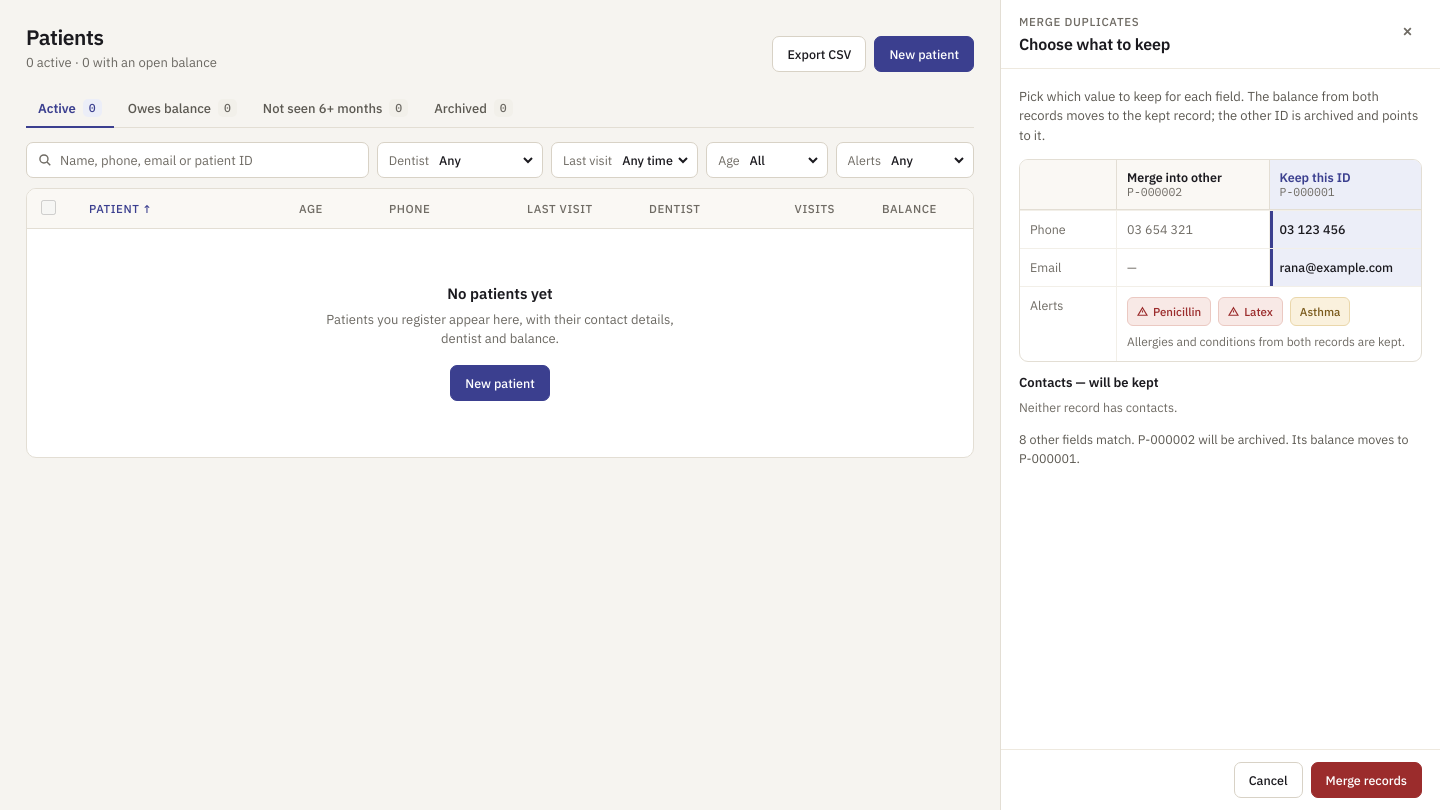
Test: MergePanel › switching the kept ID resets the picks to the new survivor
Click the radio button named "Phone from P-000002: 03 654 321".
click(1192, 230)  # box [1116,211,1268,248]
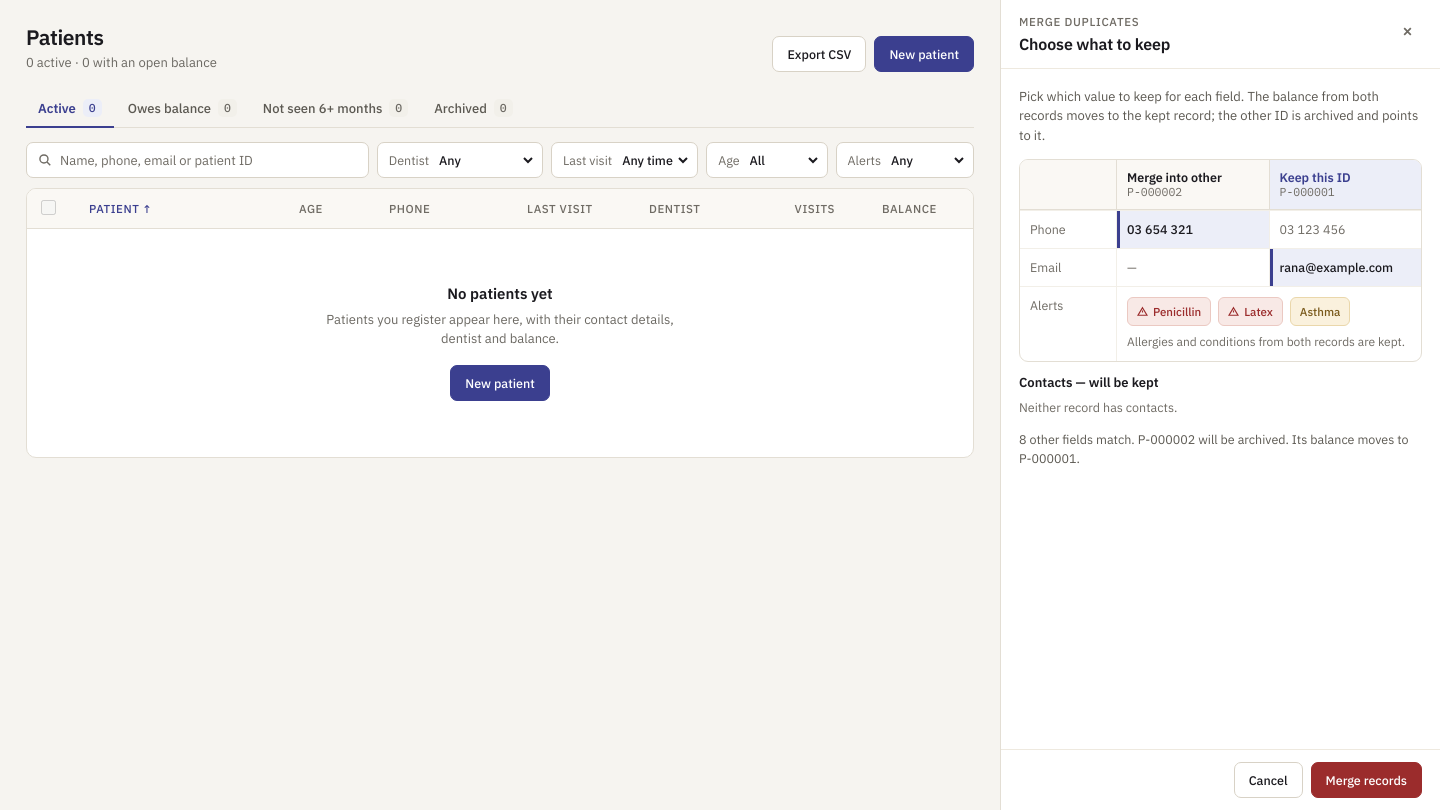
Click the radio button labelled "Merge into other P-000002".
click(1192, 185)  # box [1116,160,1268,210]
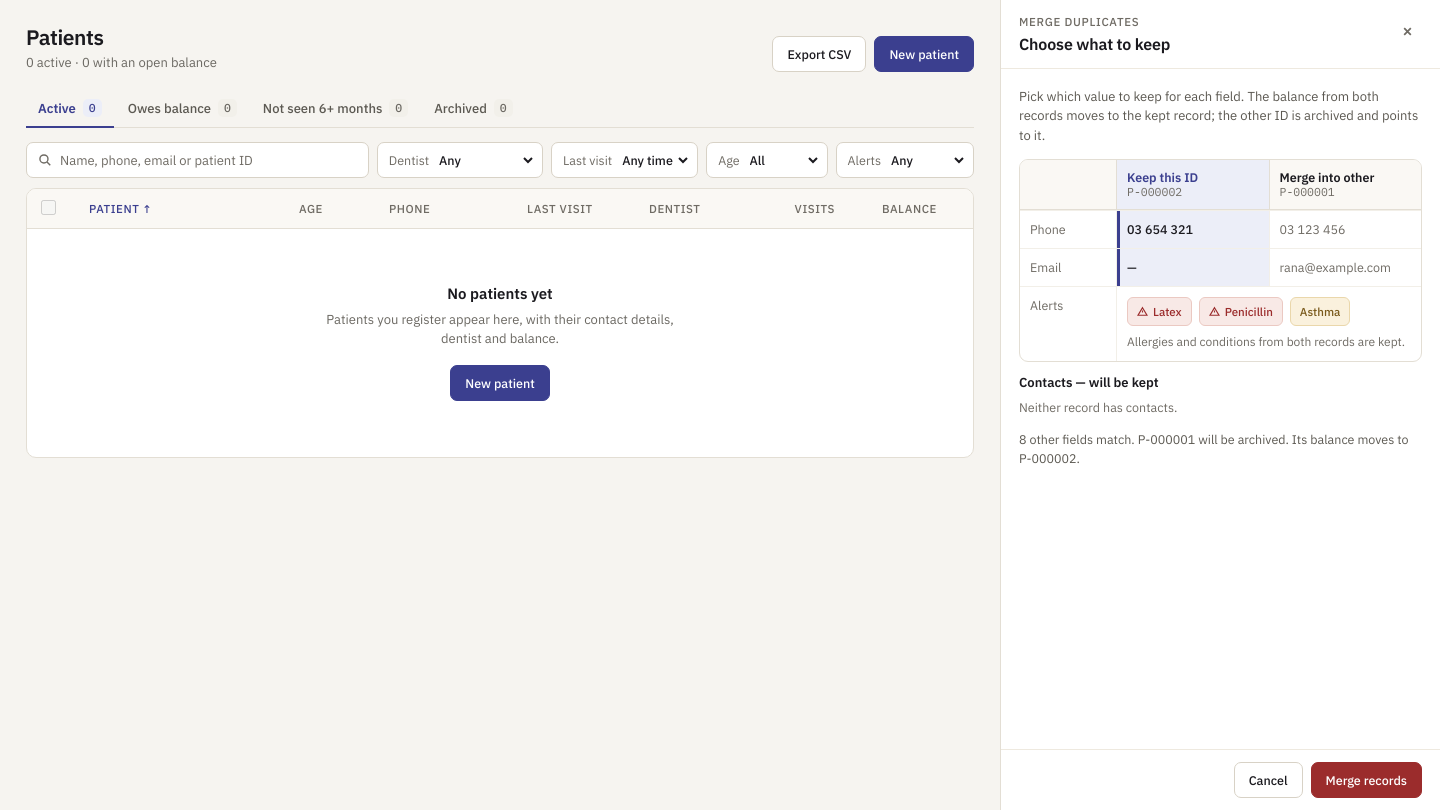
Expected: the radio button labelled "Keep this ID P-000002" is checked, [1116,160,1268,210]
Expected: the radio button named "Phone from P-000002: 03 654 321" is checked, [1116,211,1268,248]
Expected: the radio button named "Email from P-000002: —" is checked, [1116,249,1268,286]
Click the button "Merge records".
click(1366, 780)  # box [1310,762,1422,798]
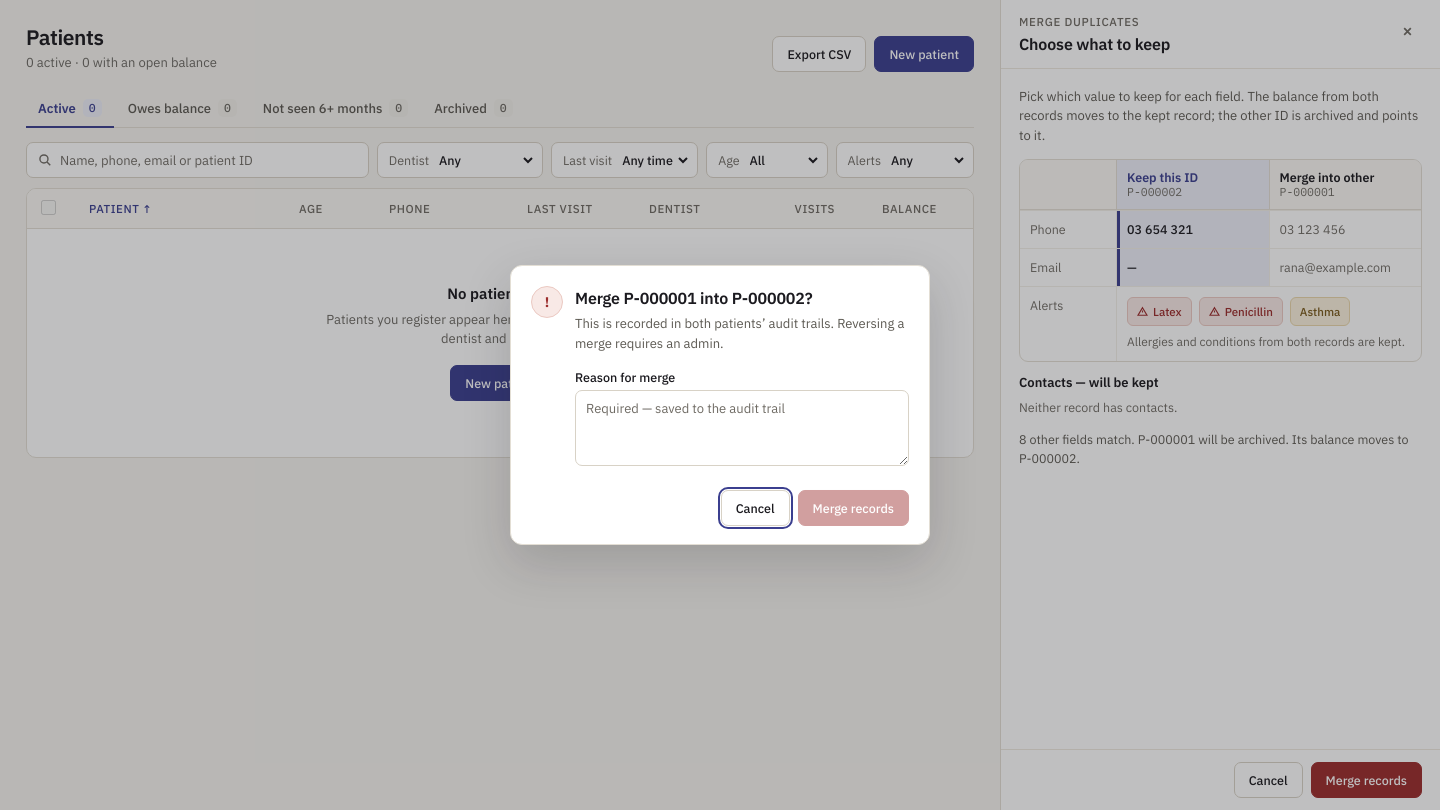
Type "Duplicate" into the text box.
click(742, 428); type("Duplicate")  # box [575,390,909,466]
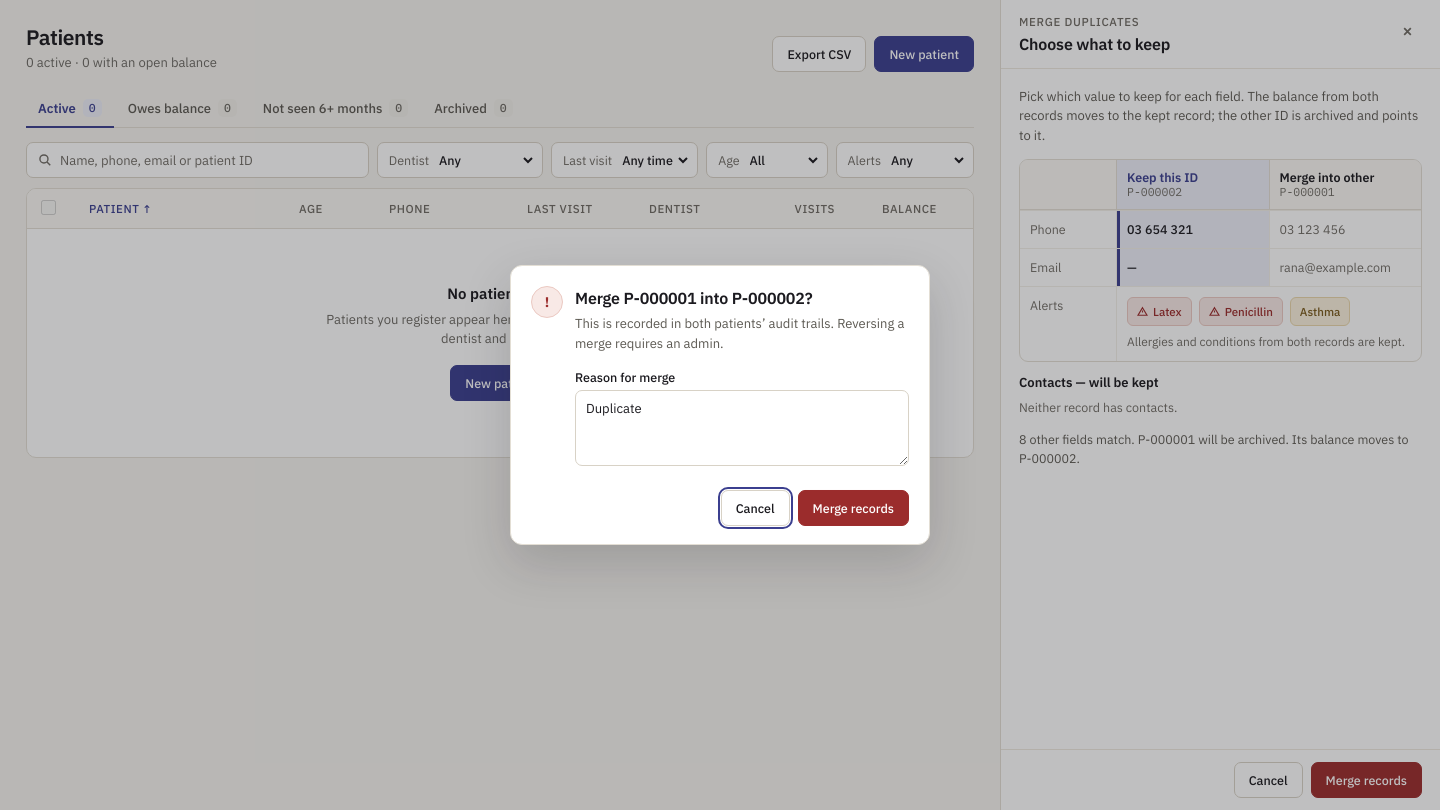
Click the button "Merge records".
click(853, 508)  # box [798,490,909,526]
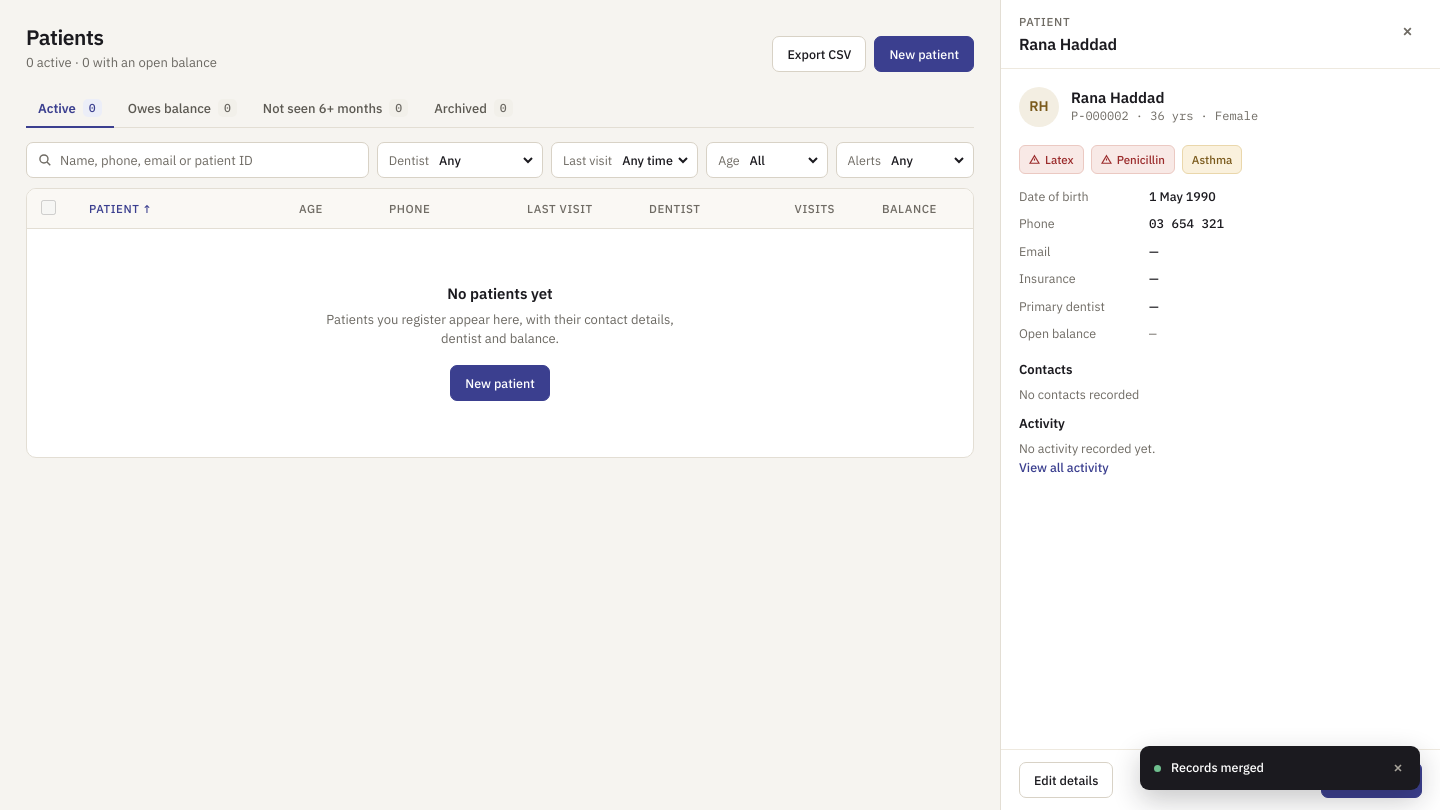
Expected: the text "Records merged" is shown, [1171,759,1264,775]
